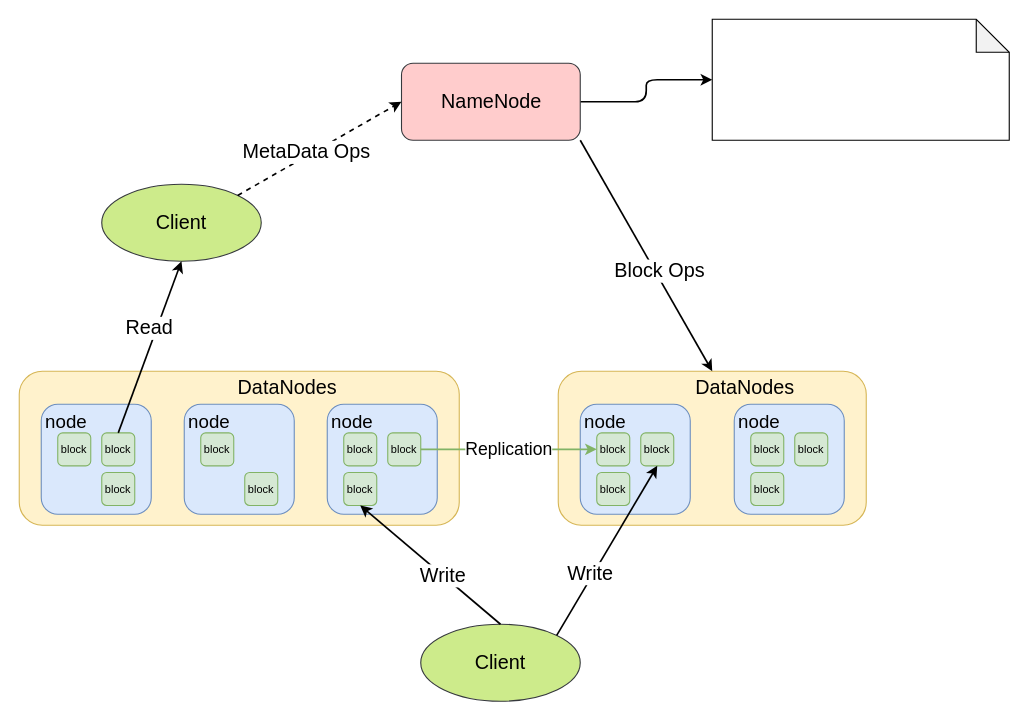
This 1029x721 diagram has some shape labels left out. Here are the shapes that lost their labels. From the top down, the box of each, then its label:
(711, 18, 1009, 140): MetaData(Name,replicas,....) /home/foo/data,3....
(18, 370, 459, 525): Rack1
(557, 370, 866, 525): Rack2
